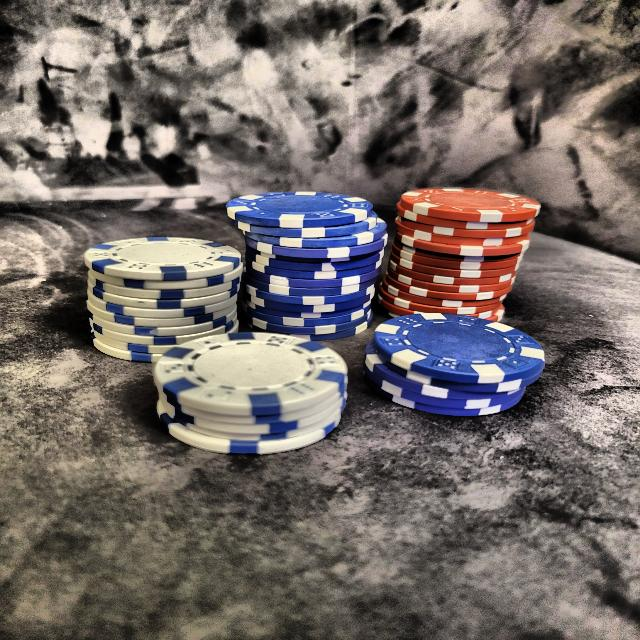Chip: (146, 317, 355, 466), (229, 176, 387, 348), (364, 294, 552, 428), (88, 212, 245, 371), (384, 174, 538, 334)
